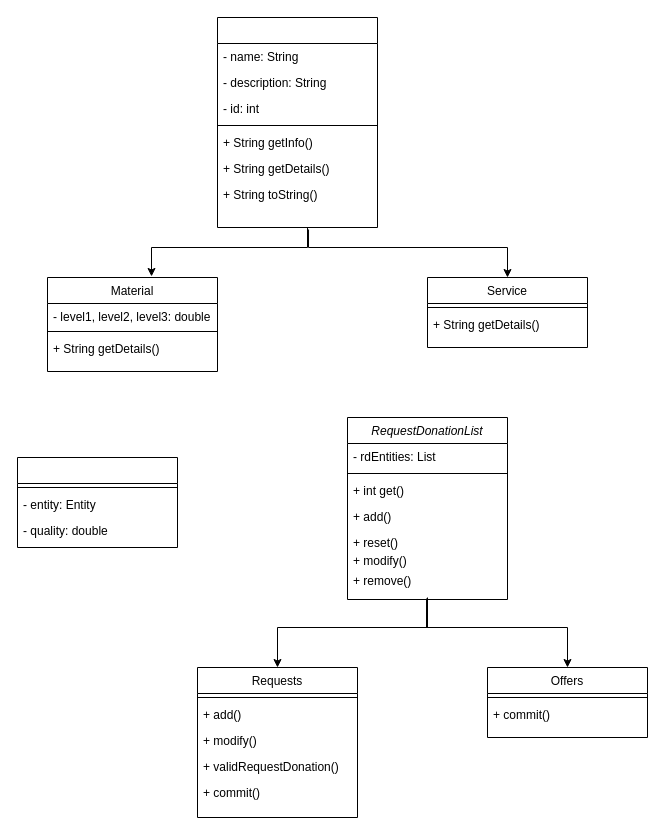
This 665x835 diagram has some shape labels left out. Here are the shapes that lost their labels. From the top down, the box of each, then its label:
(216, 16, 378, 228): Enity
(16, 456, 178, 548): RequestDonation
